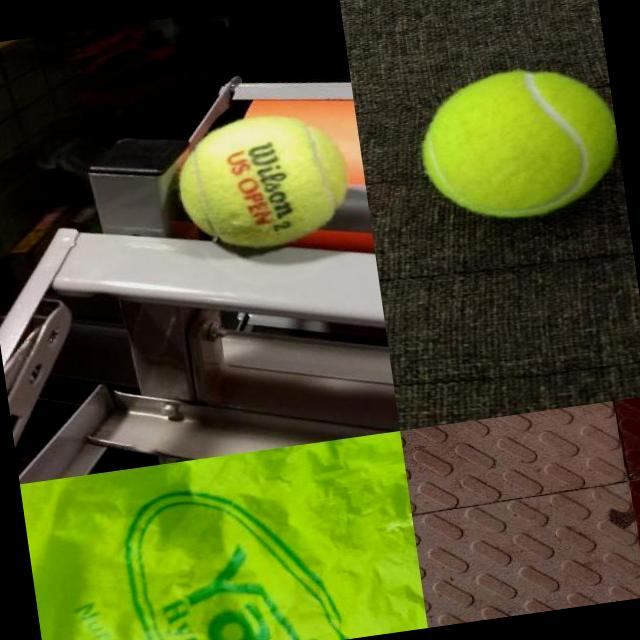Tennis Ball: (411, 58, 626, 230), (171, 106, 358, 260)
